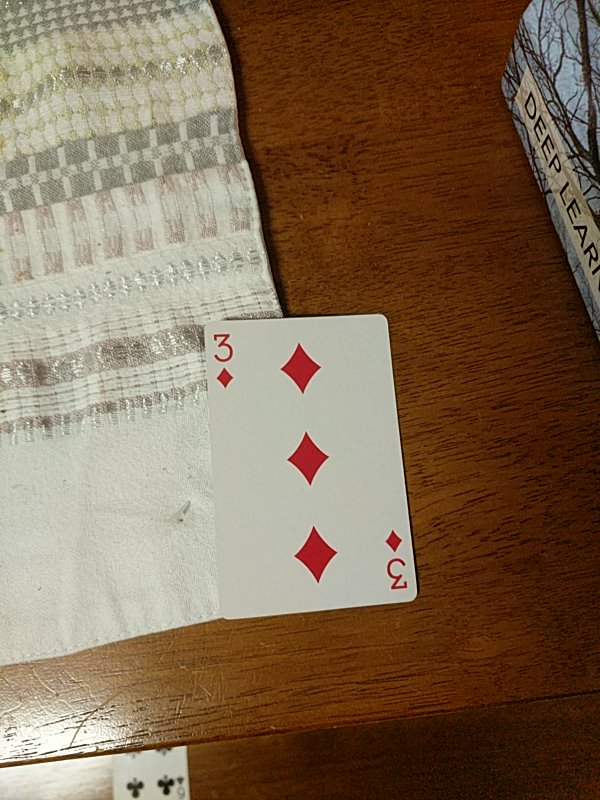Diamonds: (204, 314, 419, 619)
